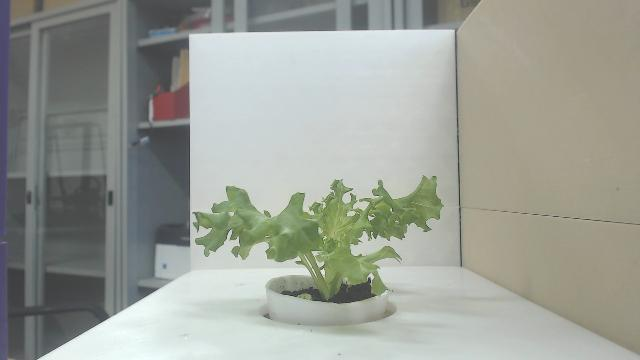Vegetative Stage: (190, 172, 446, 302)
